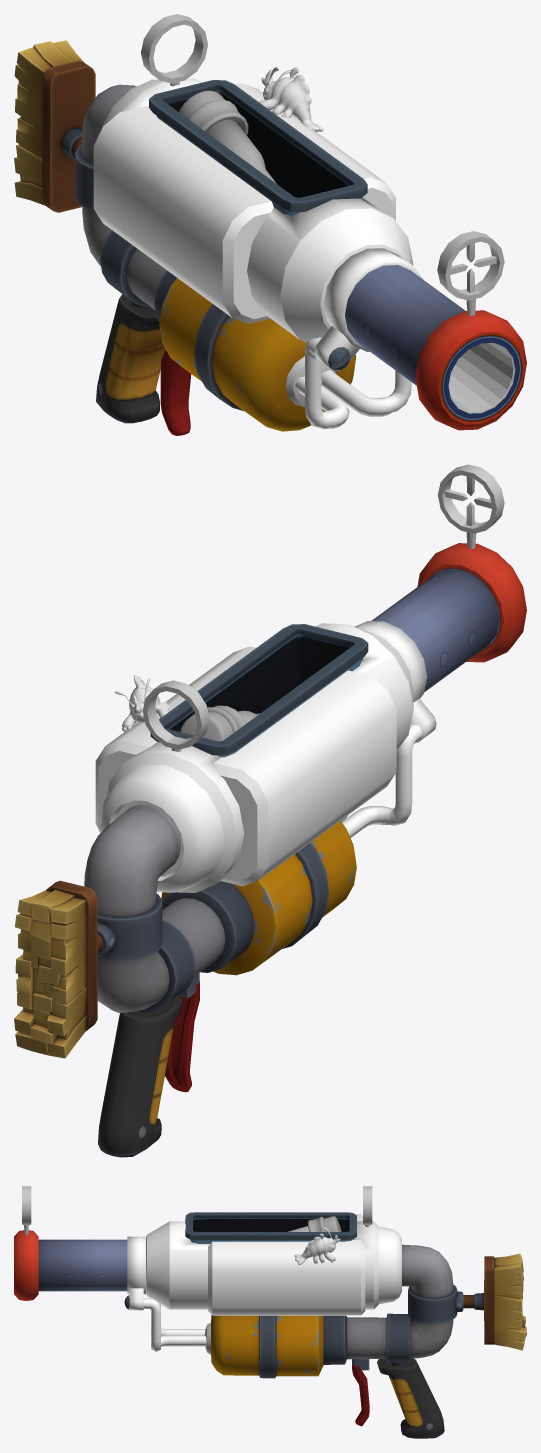
File: Fant_Glowgun.fbx
3 renders of one model, top to bottom at view 1: azimuth 30°, elevation 25°; view 2: azimuth 150°, elevation 25°; view 3: azimuth 270°, elevation 25°, orthographic. The views are drawn at different scales.
Visible parts, largest first — view 1: fant_glowgun; view 2: fant_glowgun; view 3: fant_glowgun.
Part boxes in pixels (left/top/right/bottom): fant_glowgun: left=14, top=14, right=526, bottom=435; fant_glowgun: left=14, top=464, right=526, bottom=1157; fant_glowgun: left=14, top=1186, right=526, bottom=1438.
Size of the model in its own units: 102 by 233 by 442.
